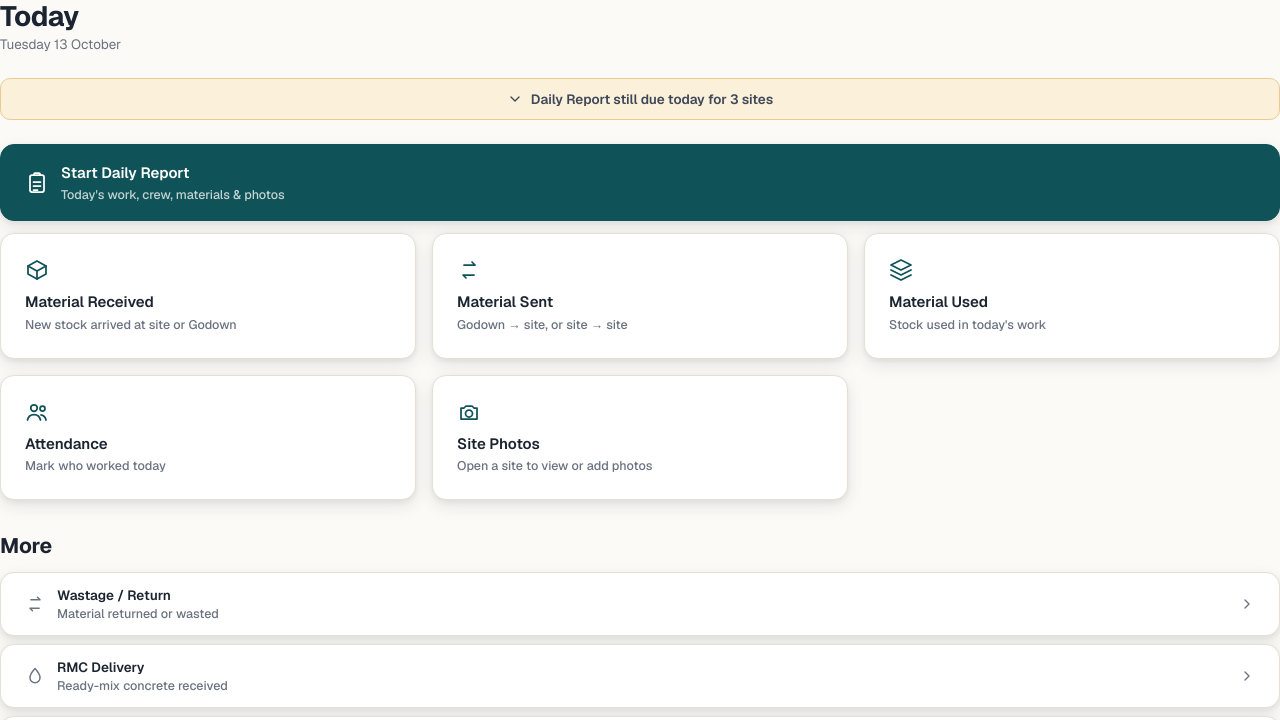
Test: DashboardPage › Supervisor Home: folds 3+ missing Sites behind a summary, closed by default (FR-35)
Click the heading "Daily Report still due today for 3 sites" at (640, 99), box [507,90,773,108]
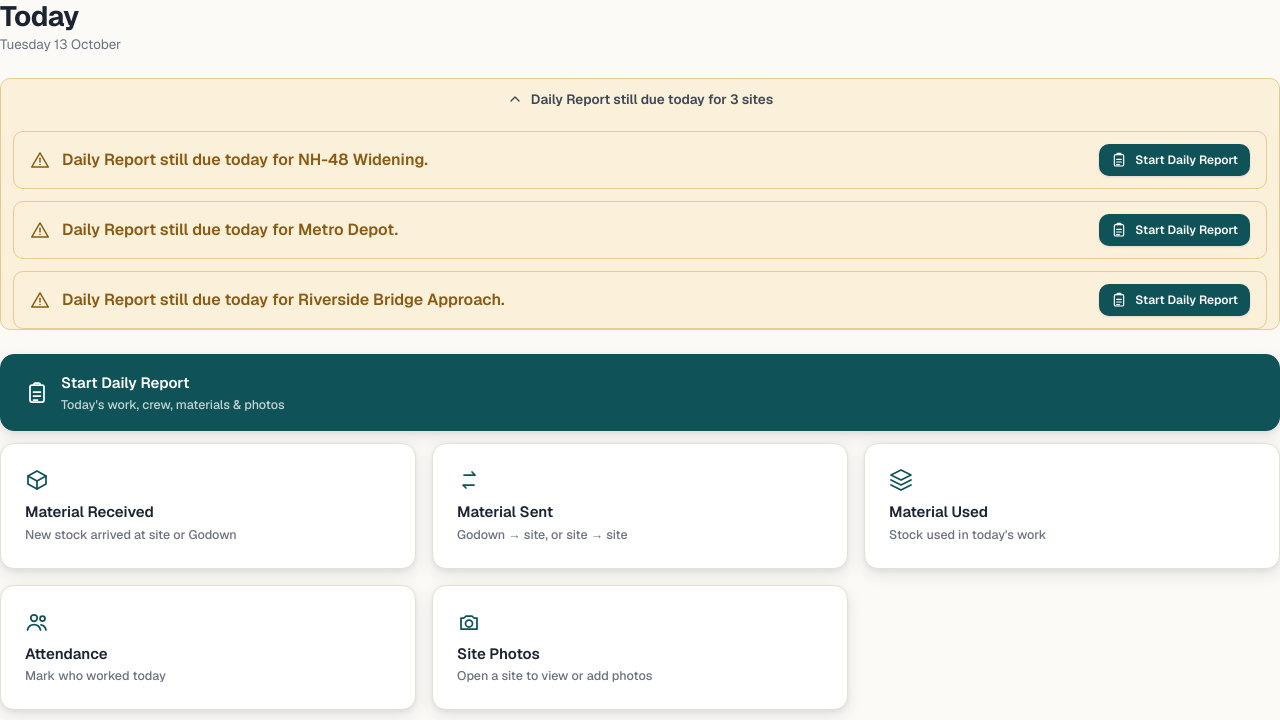
expect the text "Daily Report still due today for NH-48 Widening." is shown: met, box [62,149,428,170]
expect the text "Daily Report still due today for Metro Depot." is shown: met, box [62,219,398,240]
expect the text "Daily Report still due today for Riverside Bridge Approach." is shown: met, box [62,289,505,310]
